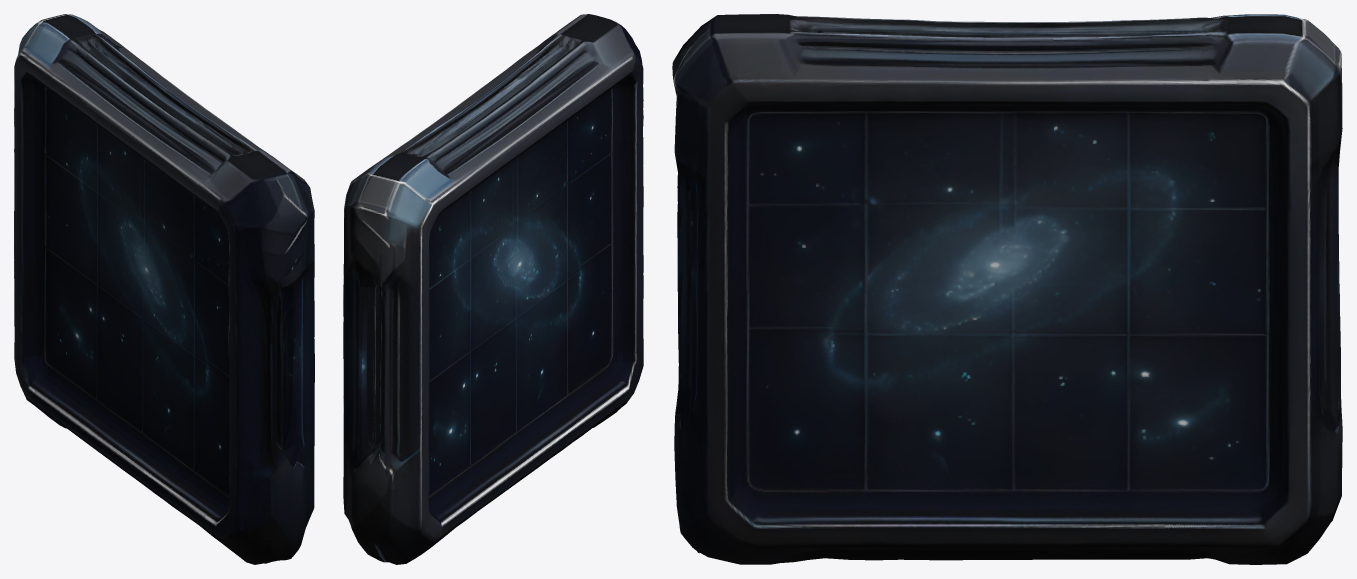
The model's file is galactic_map.glb.
The picture shows the model from 3 angles, left to right: view 1: azimuth 30°, elevation 25°; view 2: azimuth 150°, elevation 25°; view 3: azimuth 270°, elevation 25°; orthographic projection. The views are drawn at different scales.
Parts seen in each view (by area): view 1: tripo_node_573d49e9-9a85-4d58-abec-e8435110e042; view 2: tripo_node_573d49e9-9a85-4d58-abec-e8435110e042; view 3: tripo_node_573d49e9-9a85-4d58-abec-e8435110e042.
Part boxes in pixels (x1,y1,x2,y2): tripo_node_573d49e9-9a85-4d58-abec-e8435110e042: [14, 14, 314, 564]; tripo_node_573d49e9-9a85-4d58-abec-e8435110e042: [343, 14, 643, 564]; tripo_node_573d49e9-9a85-4d58-abec-e8435110e042: [672, 14, 1342, 564].
Bounding box in the file's own units: 0.2012 × 0.8759 × 0.998.
1 material, 1 textured.
